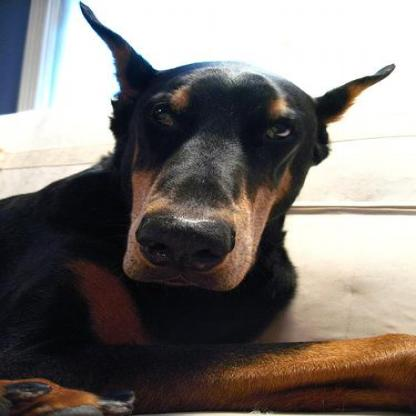Doberman: (0, 0, 413, 414)
